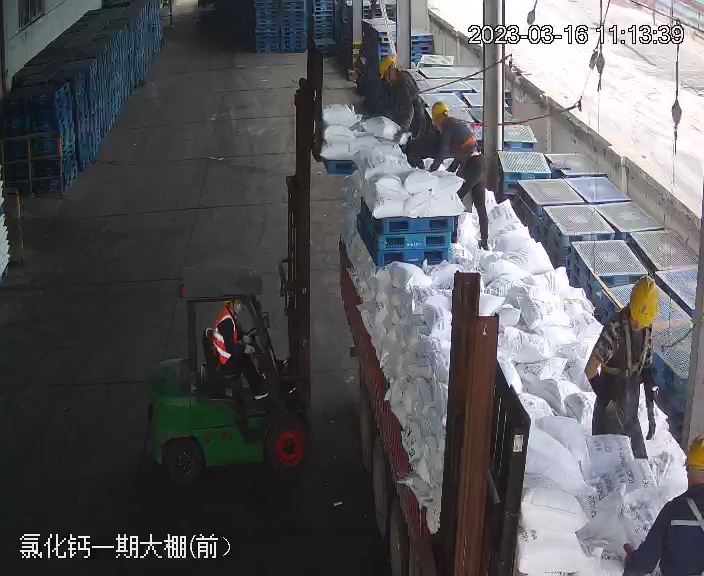belt: (607, 312, 655, 378), (672, 485, 704, 567), (446, 115, 483, 151), (392, 69, 422, 99)
head: (651, 433, 703, 540), (596, 276, 662, 351), (428, 101, 473, 138), (377, 55, 420, 91)
helmet: (627, 276, 660, 327), (682, 433, 704, 470), (378, 54, 398, 79), (428, 101, 448, 123)
people: (582, 280, 664, 462), (632, 429, 704, 576), (427, 100, 491, 249), (209, 297, 270, 397), (377, 56, 432, 165)
truck: (335, 150, 695, 576)
